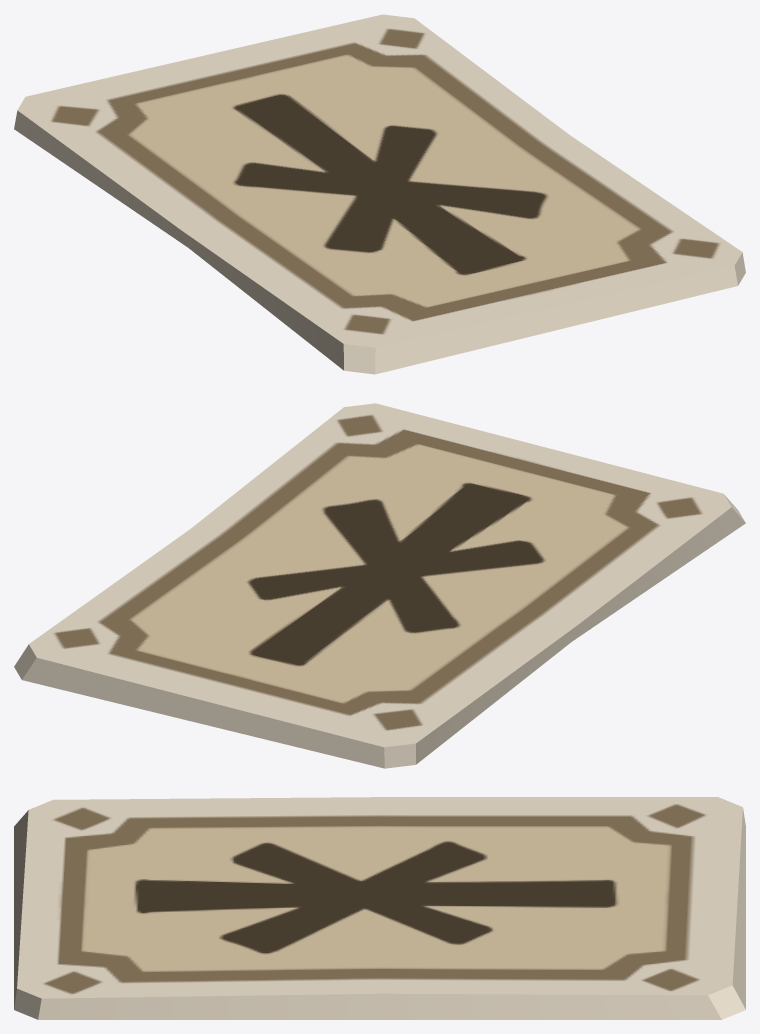
Rendered from SM_Prop_Tarot_Card_05.fbx.
The picture shows the model from 3 angles, top to bottom: view 1: azimuth 30°, elevation 25°; view 2: azimuth 150°, elevation 25°; view 3: azimuth 270°, elevation 25°; orthographic projection. The views are drawn at different scales.
Parts seen in each view (by area): view 1: SM_Prop_Tarot_Card_05; view 2: SM_Prop_Tarot_Card_05; view 3: SM_Prop_Tarot_Card_05.
Part boxes in pixels (x1,y1,x2,y2): SM_Prop_Tarot_Card_05: (14, 14, 745, 374); SM_Prop_Tarot_Card_05: (14, 403, 745, 768); SM_Prop_Tarot_Card_05: (14, 797, 745, 1019).
Size of the model in its own units: 13.22 by 0.62 by 20.12.
